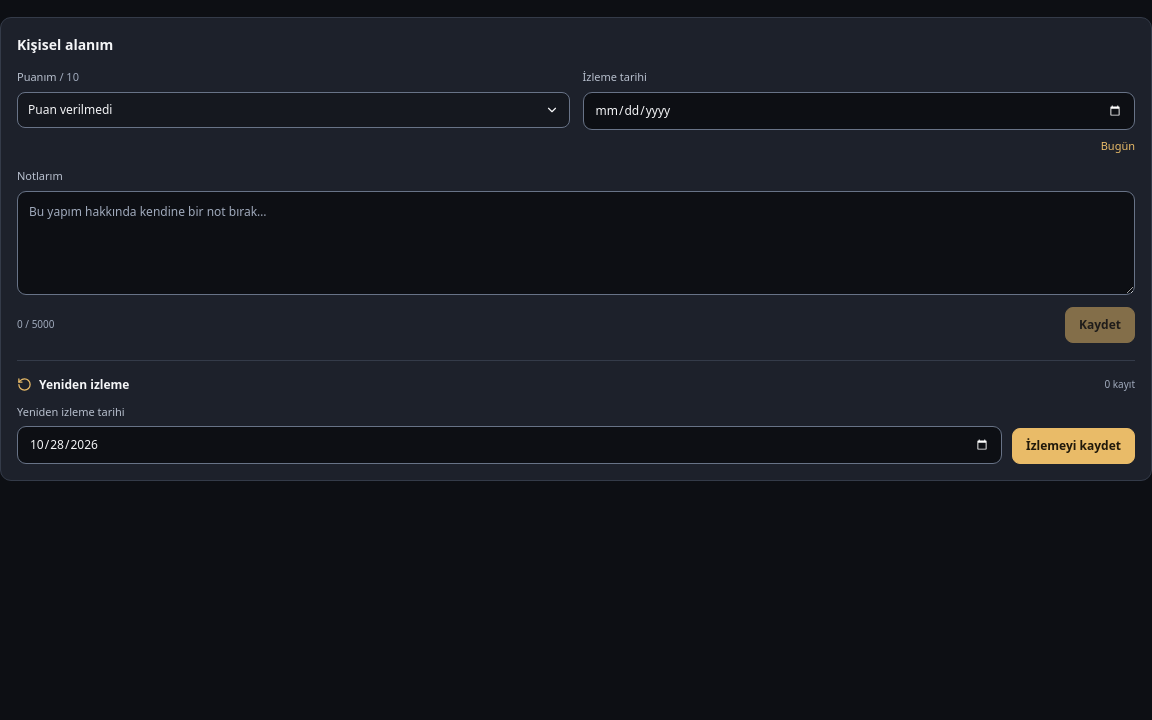
Test: hatalı kayıtta not taslağını korur ve tekrar kaydedebilir
Type "Kaybolmasın" into the text box named "Kişisel notlarım" at (576, 242), box [17,190,1135,294]
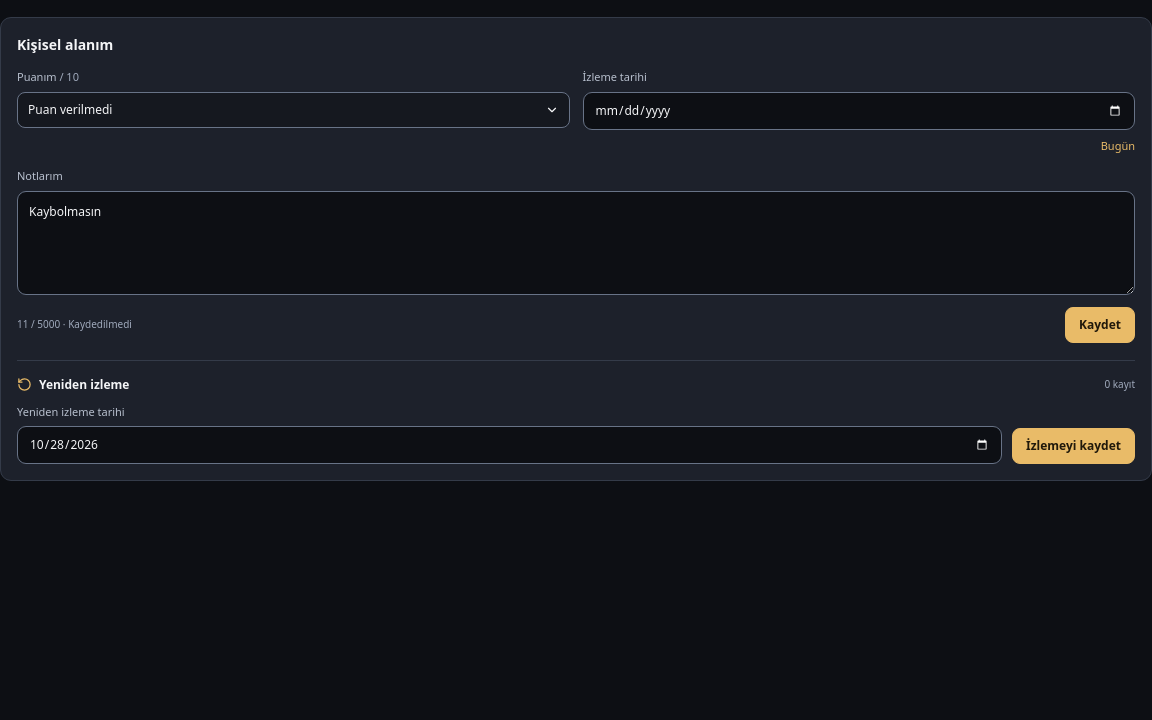
Click the button "Kaydet" at (1100, 324), box [1065,306,1135,342]
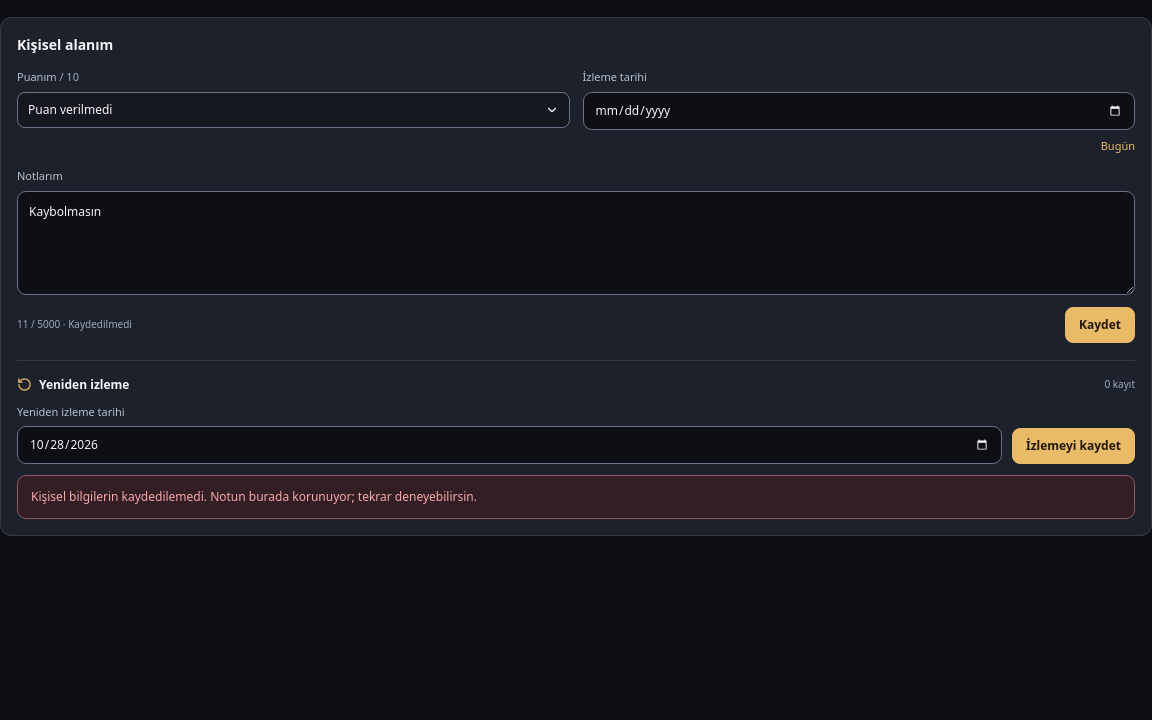
Expected: the message is shown, [17,475,1135,519]
Click the button "Kaydet" at (1100, 324), box [1065,306,1135,342]
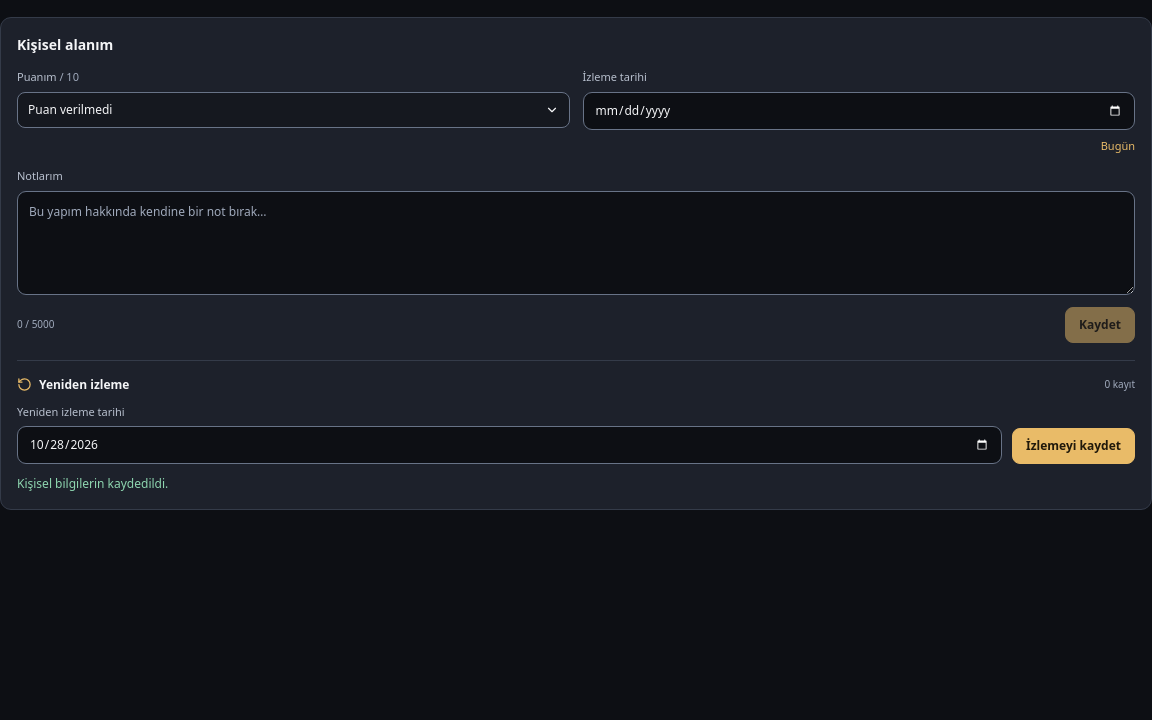
Expected: the message "Kişisel bilgilerin kaydedildi." is shown, [17,475,168,492]
